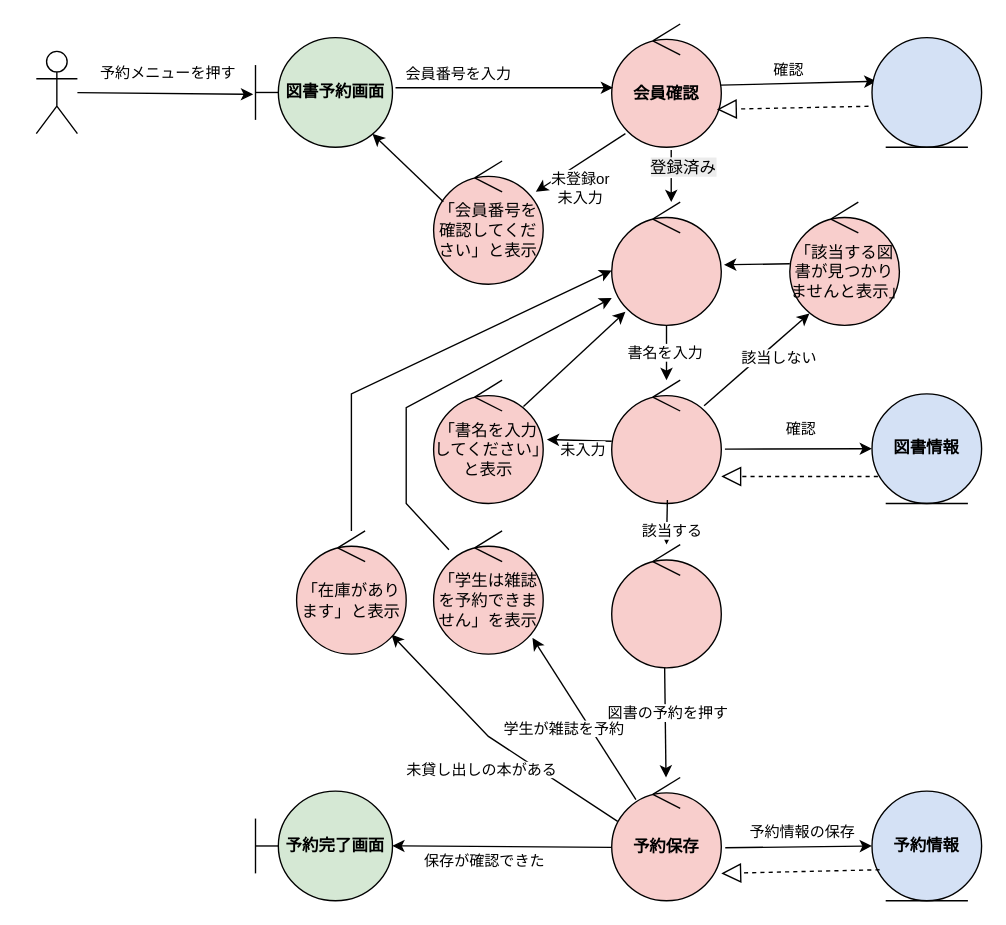
The diagram is 1006 pixels wide and 925 high, and some of its shapes have lost their labels. Each missing label, with the centre of its shape:
"事務職員" belongs at (x=56, y=92).
"会員の氏名 会員種別を 表示" belongs at (x=665, y=263).
"会員情報" belongs at (x=926, y=91).
"図書一覧 を表示" belongs at (x=665, y=605).
"図書確認" belongs at (x=665, y=441).
